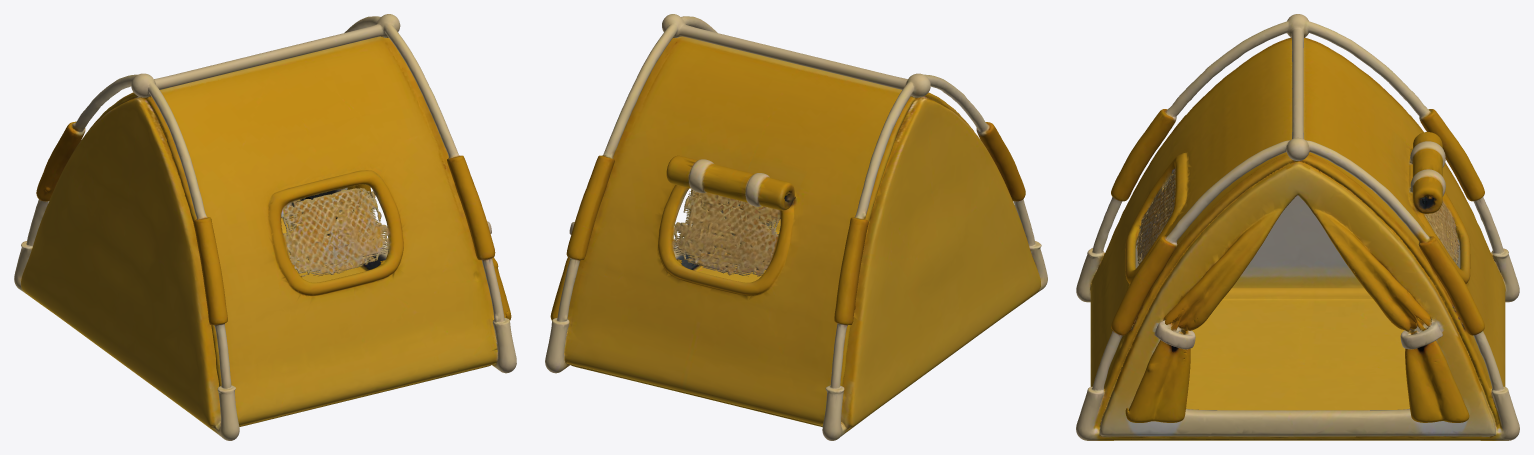
File: CampTent.glb
3 views of the same model, side by side, from view 1: azimuth 30°, elevation 25°; view 2: azimuth 150°, elevation 25°; view 3: azimuth 270°, elevation 25° (orthographic). The views are drawn at different scales.
Visible parts, largest first — view 1: tripo_node_77775a3c-0bf2-4490-a36e-21a3474b5034; view 2: tripo_node_77775a3c-0bf2-4490-a36e-21a3474b5034; view 3: tripo_node_77775a3c-0bf2-4490-a36e-21a3474b5034.
Part boxes in pixels (x1=…): tripo_node_77775a3c-0bf2-4490-a36e-21a3474b5034: x1=14, y1=14, x2=516, y2=440; tripo_node_77775a3c-0bf2-4490-a36e-21a3474b5034: x1=545, y1=14, x2=1047, y2=440; tripo_node_77775a3c-0bf2-4490-a36e-21a3474b5034: x1=1076, y1=14, x2=1519, y2=440.
Size of the model in its own units: 0.85 by 0.7327 by 1.
1 material, 1 textured.
